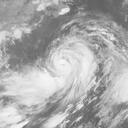cyclone: (44, 37, 98, 90)
